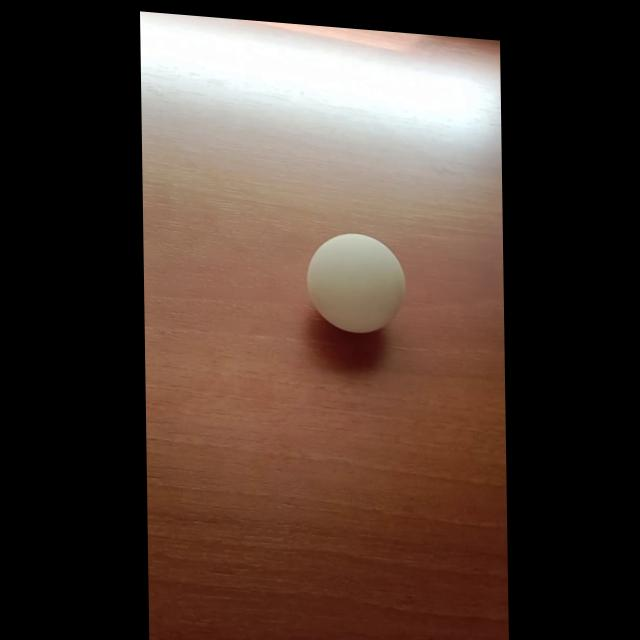white ball: (305, 228, 407, 338)
